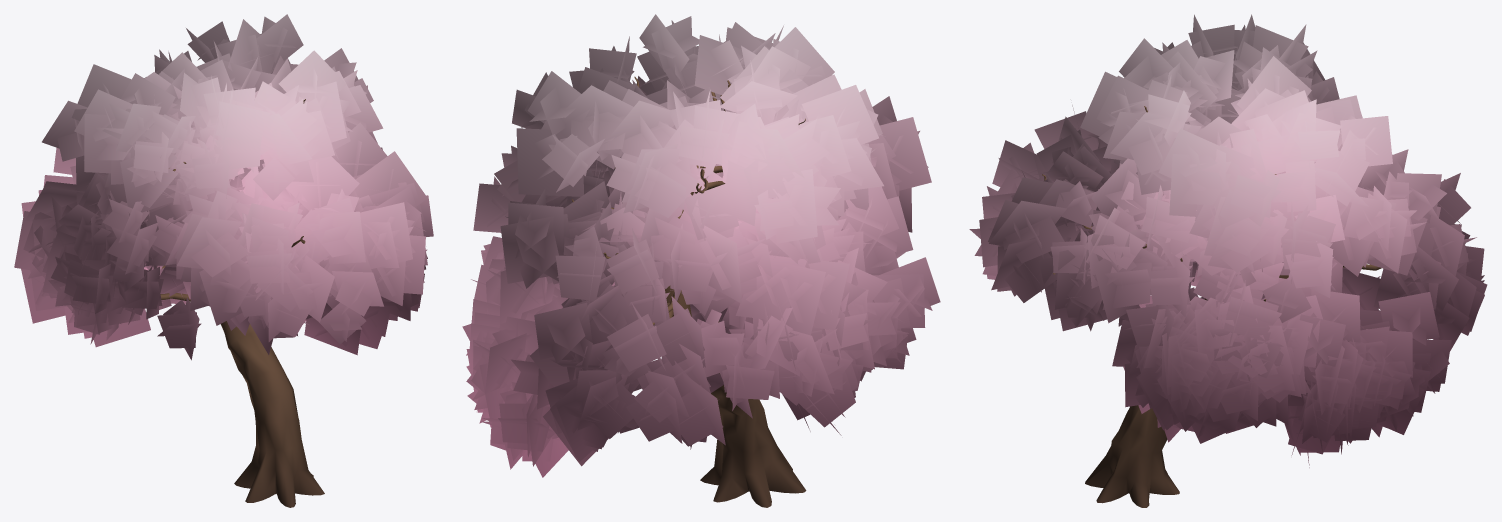
The model's file is q_tree_blossom.glb.
3 renders of one model, left to right at view 1: azimuth 30°, elevation 25°; view 2: azimuth 150°, elevation 25°; view 3: azimuth 270°, elevation 25°, orthographic. The views are drawn at different scales.
Parts seen in each view (by area): view 1: Leaves, Trunk; view 2: Leaves, Trunk; view 3: Leaves, Trunk.
Boxes of the visible parts, box(x1,y1,x2,y2) form: Leaves: box(14, 14, 433, 360); Trunk: box(160, 99, 324, 507); Leaves: box(462, 14, 940, 477); Trunk: box(572, 76, 806, 507); Leaves: box(969, 14, 1487, 467); Trunk: box(1042, 106, 1381, 507).
Bounding box in the file's own units: 4.7 × 5.2 × 5.7.
